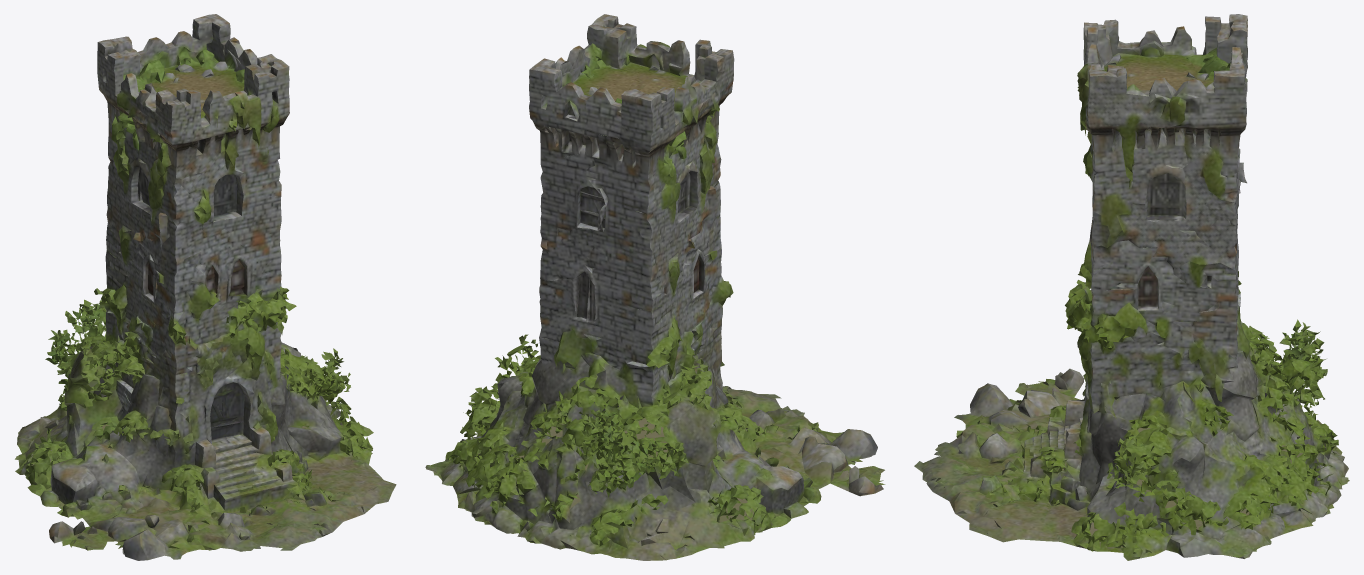
The model's file is ruin_tower.glb.
3 views of the same model, side by side, from view 1: azimuth 30°, elevation 25°; view 2: azimuth 150°, elevation 25°; view 3: azimuth 270°, elevation 25° (orthographic). The views are drawn at different scales.
Visible parts, largest first — view 1: ruin_tower; view 2: ruin_tower; view 3: ruin_tower.
Part boxes in pixels (bbox=[...]): ruin_tower: bbox=[15, 14, 396, 560]; ruin_tower: bbox=[425, 14, 885, 560]; ruin_tower: bbox=[914, 14, 1349, 560].
Bounding box in the file's own units: 1.73 × 1.9 × 1.73.
Materials: 1 (1 with a texture image).
